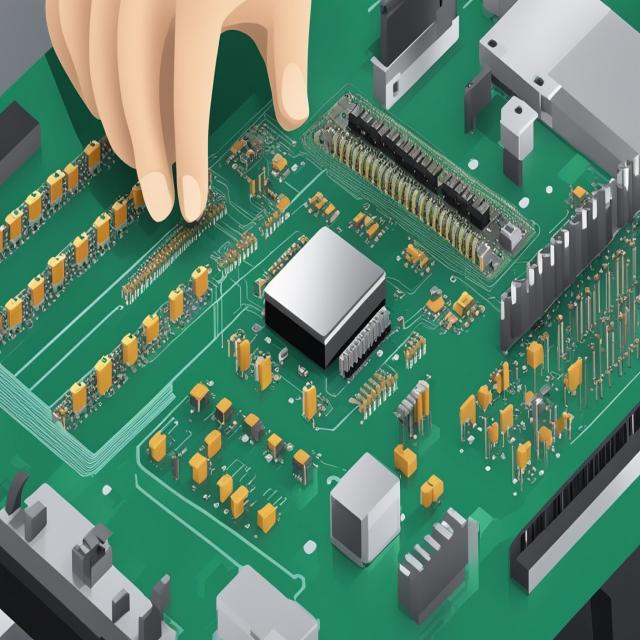pcb: (308, 88, 534, 274), (476, 0, 639, 184), (1, 470, 172, 638), (499, 153, 638, 354), (508, 401, 639, 595), (347, 102, 492, 230), (263, 224, 388, 370), (370, 0, 460, 110), (397, 506, 469, 625), (329, 450, 401, 568), (347, 104, 442, 193), (214, 563, 320, 639), (378, 0, 441, 66), (338, 305, 390, 380), (499, 94, 538, 185), (0, 99, 41, 184), (440, 173, 490, 229), (71, 522, 113, 588), (463, 66, 492, 133), (24, 500, 47, 542), (498, 220, 522, 252), (292, 448, 311, 486), (94, 354, 112, 394), (254, 354, 272, 390), (301, 381, 317, 421), (243, 412, 264, 442), (69, 380, 87, 414), (120, 332, 138, 366), (189, 382, 209, 412), (190, 265, 208, 297), (475, 239, 492, 272), (148, 431, 166, 462), (168, 287, 184, 321), (142, 312, 159, 344), (266, 432, 284, 462), (214, 396, 232, 425)
